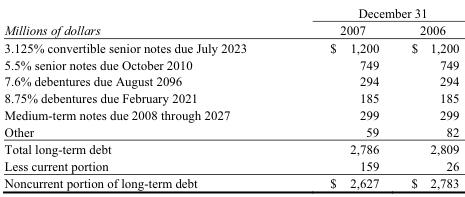table: (3, 3, 458, 191)
table column: (3, 3, 287, 191), (287, 3, 394, 191), (394, 3, 458, 191)
table column header: (3, 3, 458, 38)
table row: (3, 3, 458, 21), (3, 139, 458, 157), (3, 21, 458, 38), (3, 38, 458, 55), (3, 55, 458, 72), (3, 72, 458, 89), (3, 89, 458, 106), (3, 122, 458, 139), (3, 157, 458, 174), (3, 174, 458, 191), (3, 106, 458, 122)
table spanning cell: (3, 3, 287, 38), (287, 3, 458, 21)
